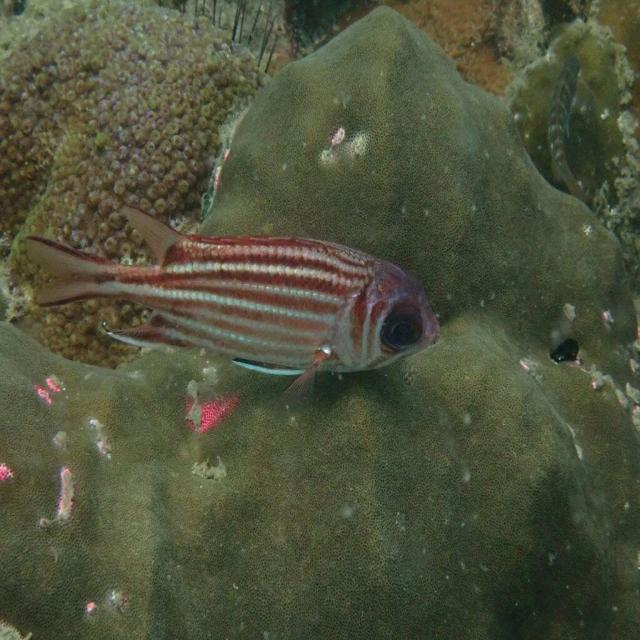Asker Baligi: (17, 196, 450, 416)
